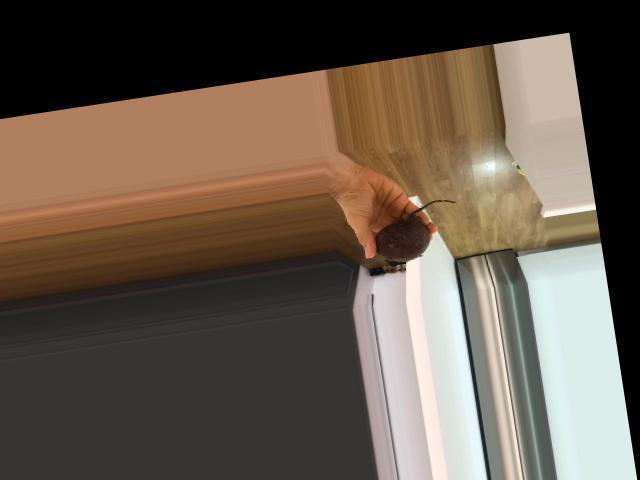beet: (370, 197, 464, 267)
